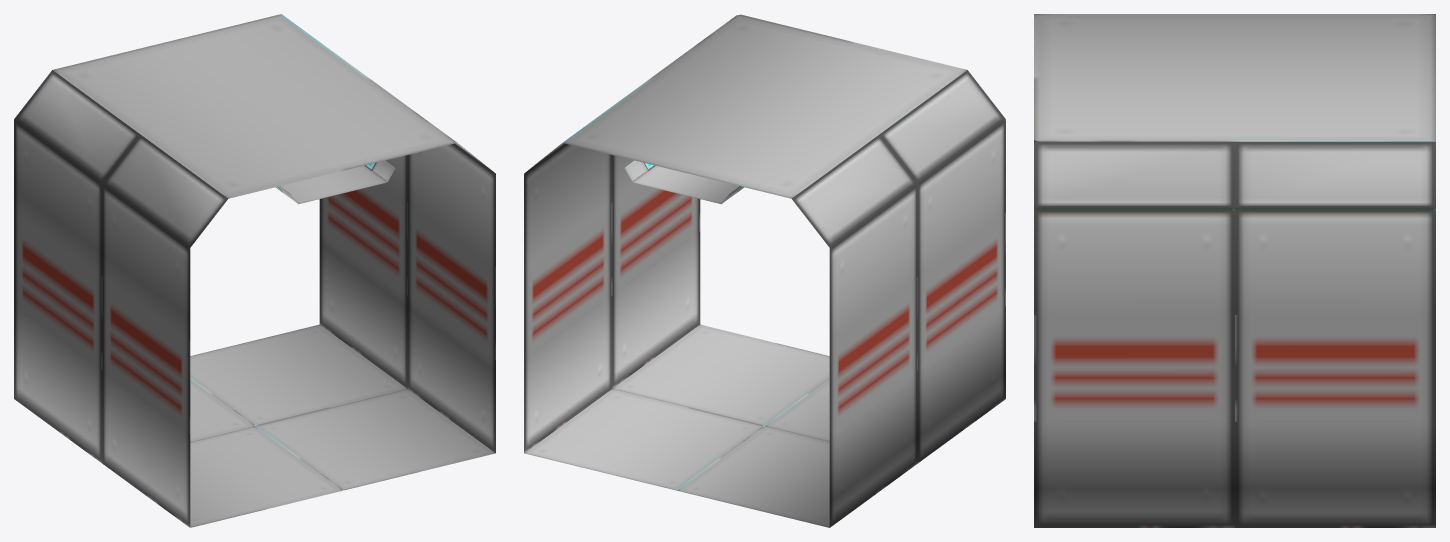
File: corr_1.fbx
3 renders of one model, left to right at view 1: azimuth 30°, elevation 25°; view 2: azimuth 150°, elevation 25°; view 3: azimuth 270°, elevation 25°, orthographic. The views are drawn at different scales.
Visible parts, largest first — view 1: Cube_069; view 2: Cube_069; view 3: Cube_069.
Boxes of the visible parts, x1,y1,x2,y2 form: Cube_069: [14, 14, 495, 527]; Cube_069: [524, 14, 1005, 527]; Cube_069: [1034, 14, 1435, 527].
Bounding box in the file's own units: 8 × 8 × 7.98.
